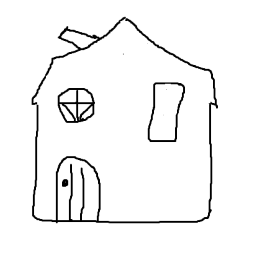chimney: (48, 17, 103, 52)
door: (46, 148, 105, 227)
open_window: (135, 78, 192, 147), (52, 82, 98, 127)
single_line_roof: (31, 11, 223, 74)
wall: (25, 67, 231, 231)
